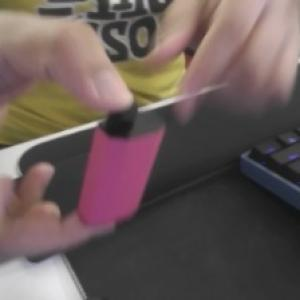Blume-E-Ciggirate: (75, 96, 170, 227)
